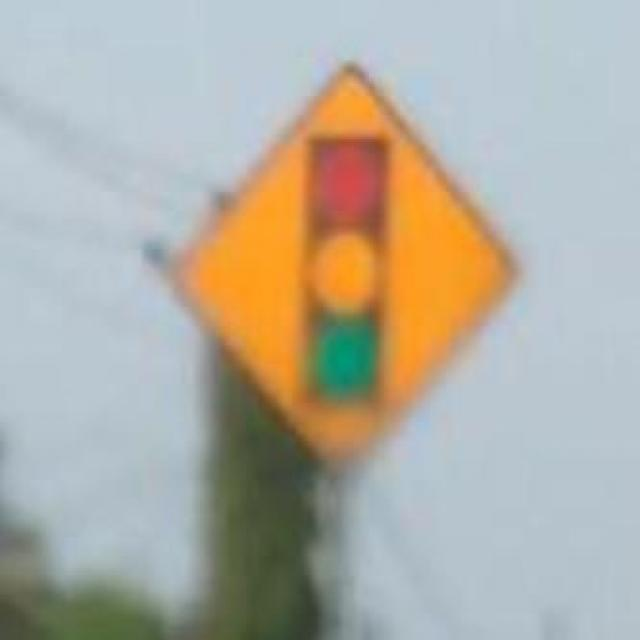traffic sign: (181, 74, 506, 458)
